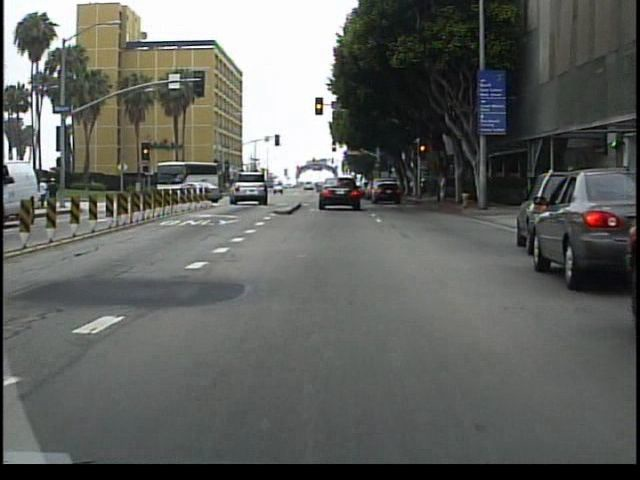person: (437, 167, 451, 203), (20, 172, 34, 206), (40, 176, 53, 212), (50, 174, 59, 206)
